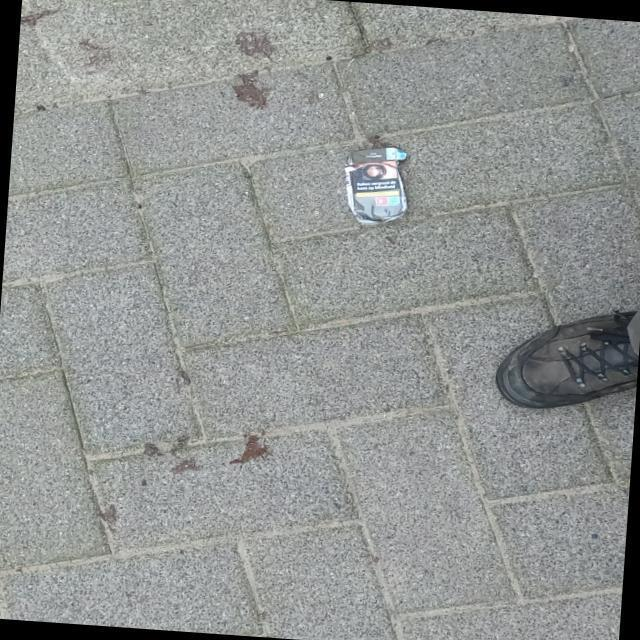Paper: (340, 141, 412, 229)
